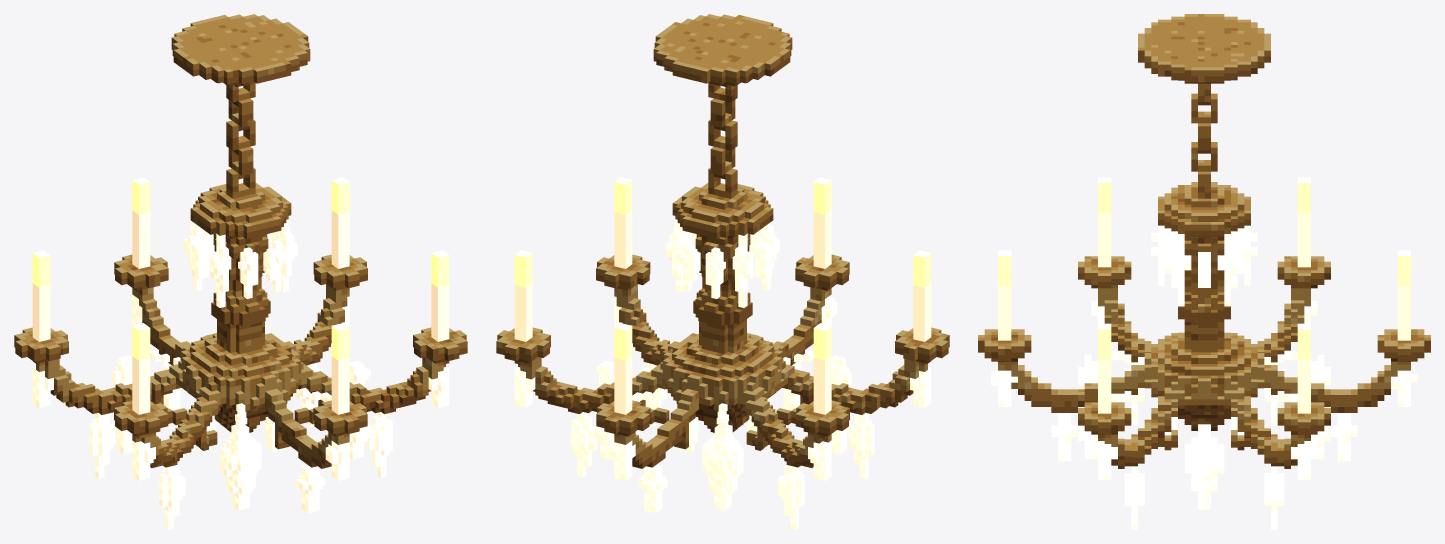
File: chandelier_voxel.glb
The picture shows the model from 3 angles, left to right: view 1: azimuth 30°, elevation 25°; view 2: azimuth 150°, elevation 25°; view 3: azimuth 270°, elevation 25°; orthographic projection.
Visible parts, largest first — view 1: Chandelier; view 2: Chandelier; view 3: Chandelier.
Boxes of the visible parts, bbox=[...] form: Chandelier: bbox=[14, 14, 467, 529]; Chandelier: bbox=[496, 14, 949, 529]; Chandelier: bbox=[978, 14, 1430, 529].
Size of the model in its own units: 0.6 by 0.77 by 0.68.
